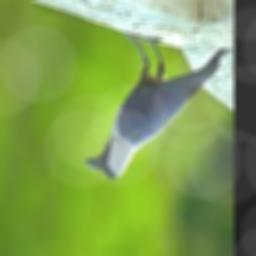Crow: (84, 35, 230, 178)
